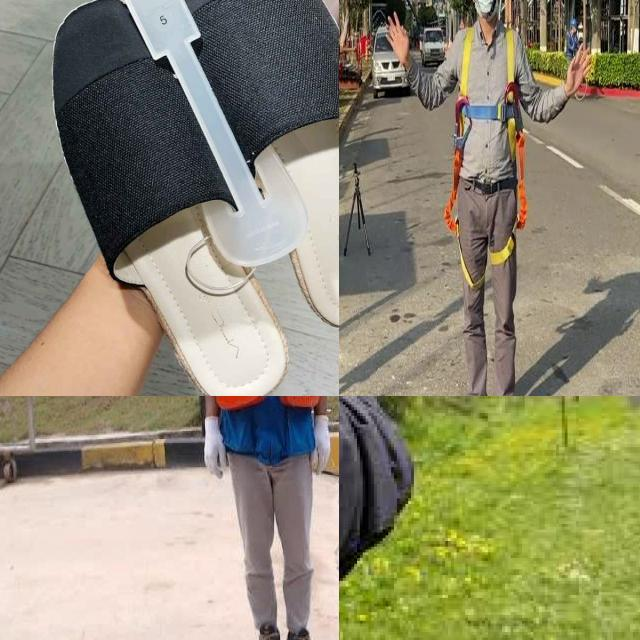Harness: (445, 27, 527, 234)
Sandals: (33, 0, 339, 396)
boots: (248, 622, 283, 640)
hand_glove: (201, 415, 230, 478), (311, 413, 335, 478)
person: (181, 396, 339, 640)
